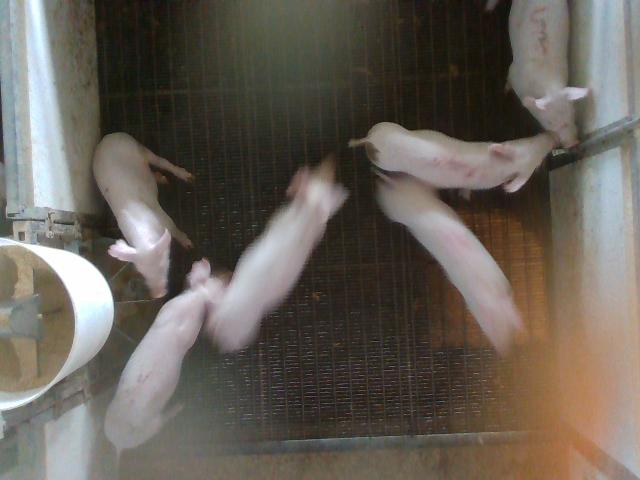pig-3: (508, 0, 589, 148)
pig-4: (376, 170, 524, 354)
pig-5: (350, 122, 555, 192)
